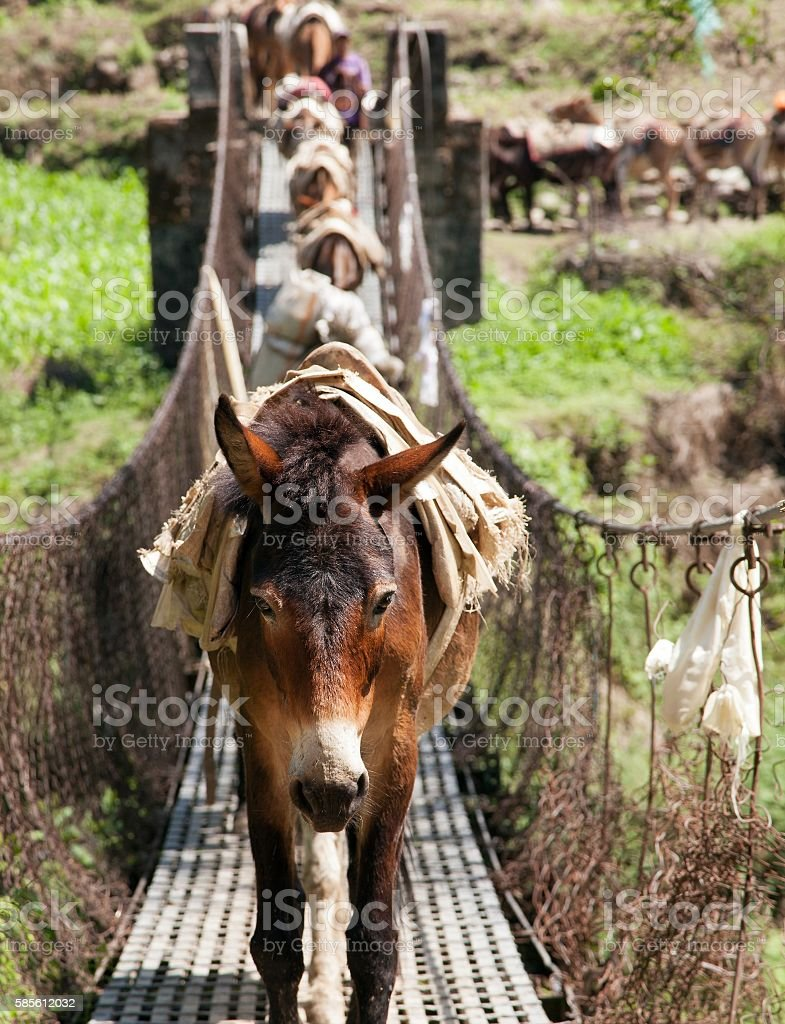equine: (120, 334, 540, 1024)
